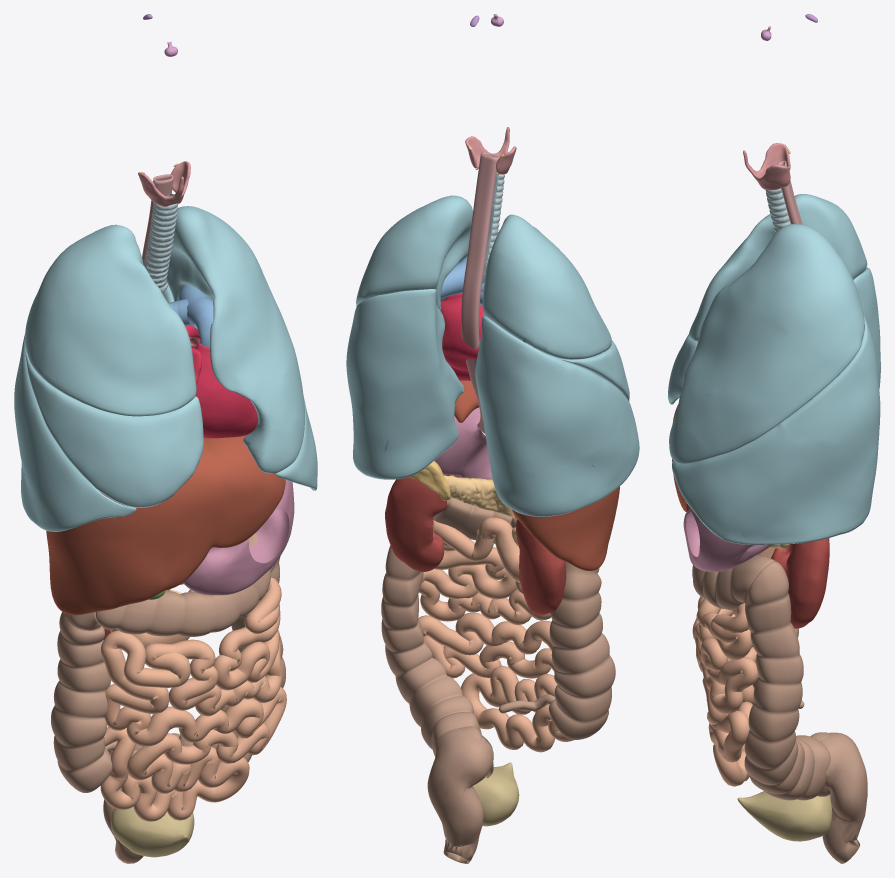
Rendered from z-anatomy-1.4.0-other-core.glb.
The picture shows the model from 3 angles, left to right: view 1: azimuth 30°, elevation 25°; view 2: azimuth 150°, elevation 25°; view 3: azimuth 270°, elevation 25°; orthographic projection. The views are drawn at different scales.
Parts seen in each view (by area): view 1: small-intestine-jejunum__Jejunum, lungs-superior-lobe-of-right-lung__Superior_lobe_of_right_lu, liver__Liver, lungs-superior-lobe-of-left-lung__Superior_lobe_of_left_lung, lungs-middle-lobe-of-right-lung__Middle_lobe_of_right_lung, large-intestine-ascending-colon__Ascending_colon, lungs-inferior-lobe-of-right-lung__Inferior_lobe_of_right_lu, large-intestine-transverse-colon__Transverse_colon, stomach__Stomach, heart-right-ventricle__Right_ventricle, bladder__Urinary_bladder, trachea__Trachea (+6 smaller); view 2: lungs-inferior-lobe-of-right-lung__Inferior_lobe_of_right_lu, small-intestine-jejunum__Jejunum, lungs-inferior-lobe-of-left-lung__Inferior_lobe_of_left_lung, lungs-superior-lobe-of-right-lung__Superior_lobe_of_right_lu, large-intestine-descending-colon__Descending_colon, large-intestine-ascending-colon__Ascending_colon, lungs-superior-lobe-of-left-lung__Superior_lobe_of_left_lung, large-intestine-sigmoid-colon__Sigmoid_colon, liver__Liver, kidneys-kidney-left__Kidneyl, oesophagus__Oesophagus, kidneys-kidney-right__Kidneyr (+10 smaller); view 3: lungs-superior-lobe-of-left-lung__Superior_lobe_of_left_lung, lungs-inferior-lobe-of-left-lung__Inferior_lobe_of_left_lung, large-intestine-descending-colon__Descending_colon, small-intestine-jejunum__Jejunum, lungs-superior-lobe-of-right-lung__Superior_lobe_of_right_lu, large-intestine-sigmoid-colon__Sigmoid_colon, bladder__Urinary_bladder, kidneys-kidney-left__Kidneyl, stomach__Stomach, large-intestine-transverse-colon__Transverse_colon, thyroid-gland__Thyroid_gland, lungs-inferior-lobe-of-right-lung__Inferior_lobe_of_right_lu (+3 smaller).
Boxes of the visible parts, <box> form: small-intestine-jejunum__Jejunum: <box>100,577,286,821</box>; lungs-superior-lobe-of-right-lung__Superior_lobe_of_right_lu: <box>25,224,196,416</box>; liver__Liver: <box>46,435,285,615</box>; lungs-superior-lobe-of-left-lung__Superior_lobe_of_left_lung: <box>166,206,304,473</box>; lungs-middle-lobe-of-right-lung__Middle_lobe_of_right_lung: <box>25,351,203,507</box>; large-intestine-ascending-colon__Ascending_colon: <box>51,612,112,792</box>; lungs-inferior-lobe-of-right-lung__Inferior_lobe_of_right_lu: <box>14,333,136,531</box>; large-intestine-transverse-colon__Transverse_colon: <box>95,534,275,636</box>; stomach__Stomach: <box>183,480,294,595</box>; heart-right-ventricle__Right_ventricle: <box>195,342,258,438</box>; bladder__Urinary_bladder: <box>110,806,194,857</box>; trachea__Trachea: <box>144,193,178,293</box>; lungs-inferior-lobe-of-right-lung__Inferior_lobe_of_right_lu: <box>475,316,639,516</box>; small-intestine-jejunum__Jejunum: <box>418,520,573,752</box>; lungs-inferior-lobe-of-left-lung__Inferior_lobe_of_left_lung: <box>346,289,464,479</box>; lungs-superior-lobe-of-right-lung__Superior_lobe_of_right_lu: <box>482,214,611,359</box>; large-intestine-descending-colon__Descending_colon: <box>381,520,493,777</box>; large-intestine-ascending-colon__Ascending_colon: <box>548,562,615,739</box>; lungs-superior-lobe-of-left-lung__Superior_lobe_of_left_lung: <box>356,195,472,310</box>; large-intestine-sigmoid-colon__Sigmoid_colon: <box>427,728,493,863</box>; liver__Liver: <box>454,380,619,570</box>; kidneys-kidney-left__Kidneyl: <box>385,477,446,571</box>; oesophagus__Oesophagus: <box>461,152,498,433</box>; kidneys-kidney-right__Kidneyr: <box>516,519,566,614</box>; lungs-superior-lobe-of-left-lung__Superior_lobe_of_left_lung: <box>669,224,864,464</box>; lungs-inferior-lobe-of-left-lung__Inferior_lobe_of_left_lung: <box>672,316,880,544</box>; large-intestine-descending-colon__Descending_colon: <box>744,561,830,800</box>; small-intestine-jejunum__Jejunum: <box>692,596,758,786</box>; lungs-superior-lobe-of-right-lung__Superior_lobe_of_right_lu: <box>689,194,867,340</box>; large-intestine-sigmoid-colon__Sigmoid_colon: <box>821,732,867,863</box>; bladder__Urinary_bladder: <box>737,791,831,841</box>; kidneys-kidney-left__Kidneyl: <box>786,538,829,628</box>; stomach__Stomach: <box>683,507,771,571</box>; large-intestine-transverse-colon__Transverse_colon: <box>692,556,775,610</box>; thyroid-gland__Thyroid_gland: <box>743,143,790,190</box>; lungs-inferior-lobe-of-right-lung__Inferior_lobe_of_right_lu: <box>679,267,880,397</box>.
Size of the model in its own units: 0.261 by 0.816 by 0.1857.
